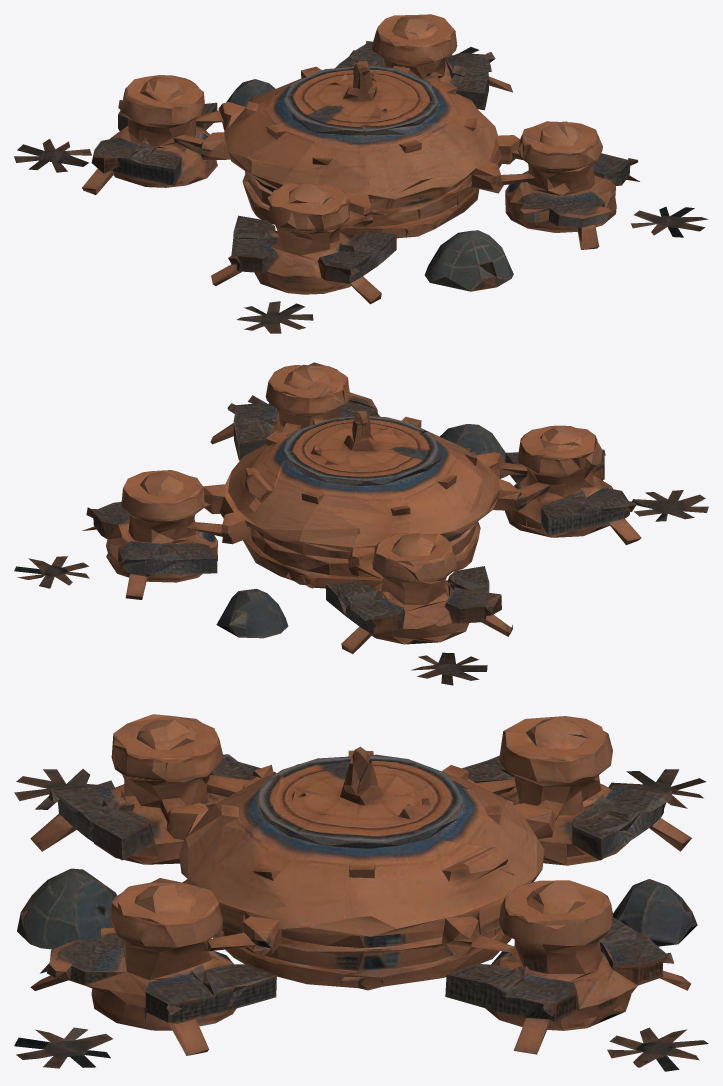
Rendered from nation-r-fortress.glb.
The picture shows the model from 3 angles, top to bottom: view 1: azimuth 30°, elevation 25°; view 2: azimuth 150°, elevation 25°; view 3: azimuth 270°, elevation 25°; orthographic projection. The views are drawn at different scales.
Size of the model in its own units: 1.9 by 0.543 by 1.84.
1 material, 1 textured.
